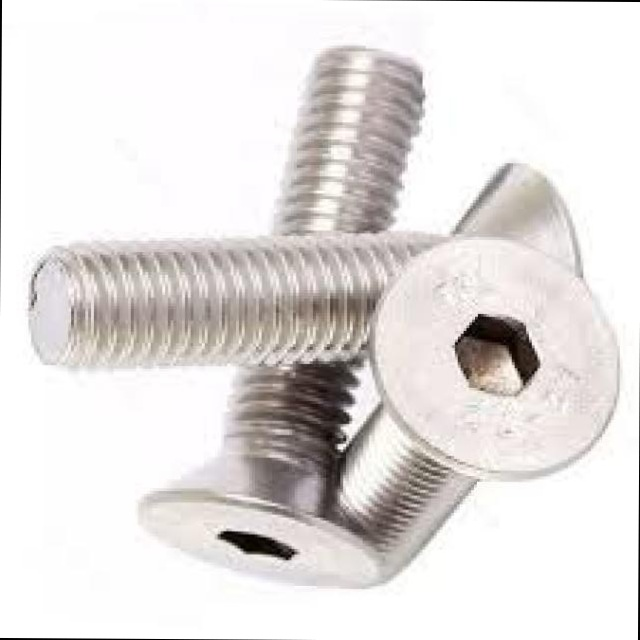allen: (367, 232, 620, 480), (133, 488, 386, 592)
